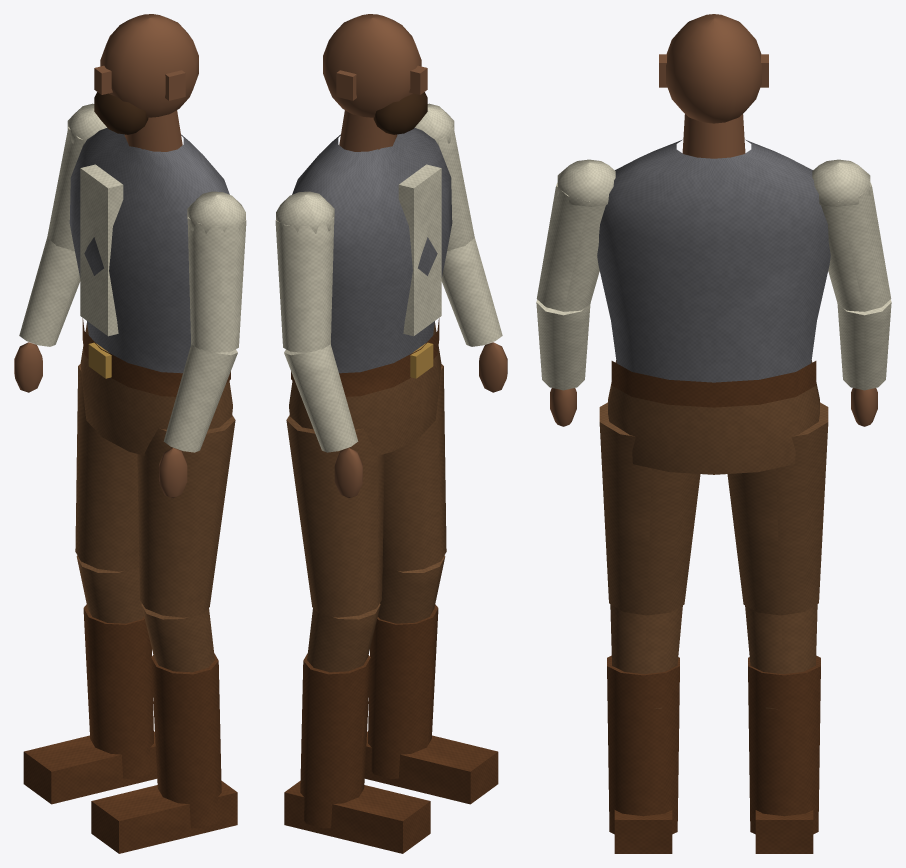
File: SM_Art_Figure_bigman.gltf
The picture shows the model from 3 angles, left to right: view 1: azimuth 30°, elevation 25°; view 2: azimuth 150°, elevation 25°; view 3: azimuth 270°, elevation 25°; orthographic projection. The views are drawn at different scales.
Visible parts, largest first — view 1: SM_Art_Figure_bigman; view 2: SM_Art_Figure_bigman; view 3: SM_Art_Figure_bigman.
Boxes of the visible parts, x1,y1,x2,y2 form: SM_Art_Figure_bigman: (14, 14, 246, 853); SM_Art_Figure_bigman: (275, 14, 507, 853); SM_Art_Figure_bigman: (536, 14, 891, 853).
Size of the model in its own units: 0.3682 by 1.93 by 0.7642.
7 materials, 4 textured.
